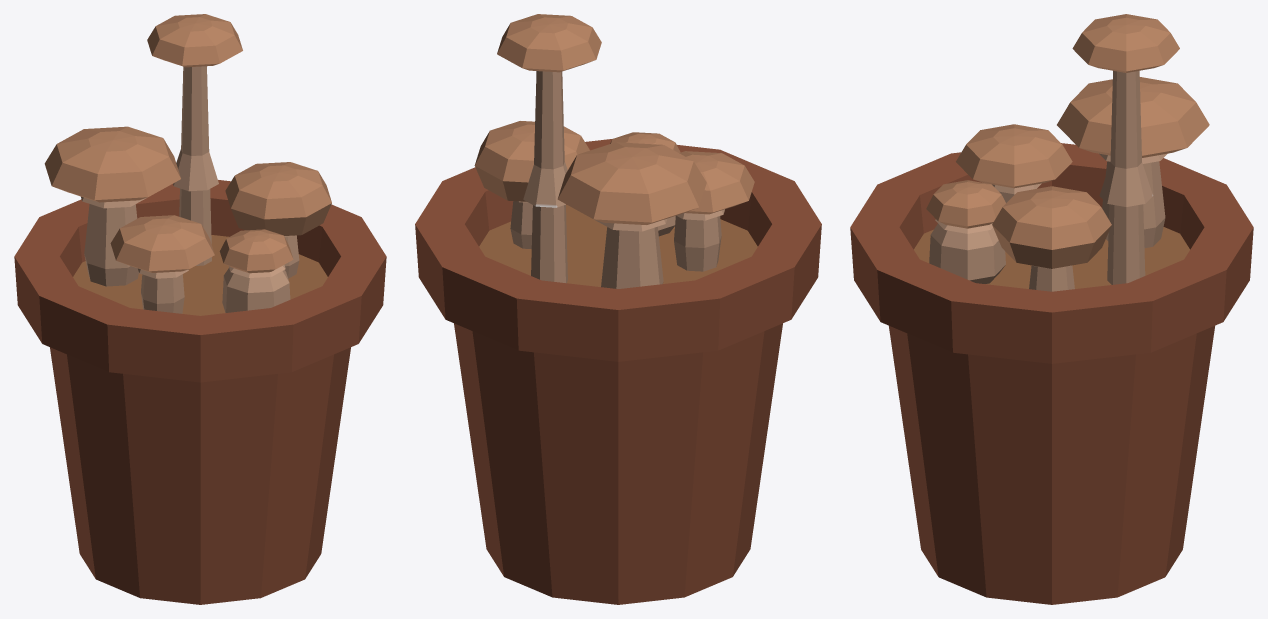
File: Pot_03.fbx
3 views of the same model, side by side, from view 1: azimuth 30°, elevation 25°; view 2: azimuth 150°, elevation 25°; view 3: azimuth 270°, elevation 25° (orthographic). The views are drawn at different scales.
Parts seen in each view (by area): view 1: Pot_03; view 2: Pot_03; view 3: Pot_03.
Part boxes in pixels (bbox=[...]): Pot_03: bbox=[14, 14, 386, 604]; Pot_03: bbox=[415, 14, 821, 604]; Pot_03: bbox=[850, 14, 1253, 604].
Bounding box in the file's own units: 91.25 × 135 × 91.25.
